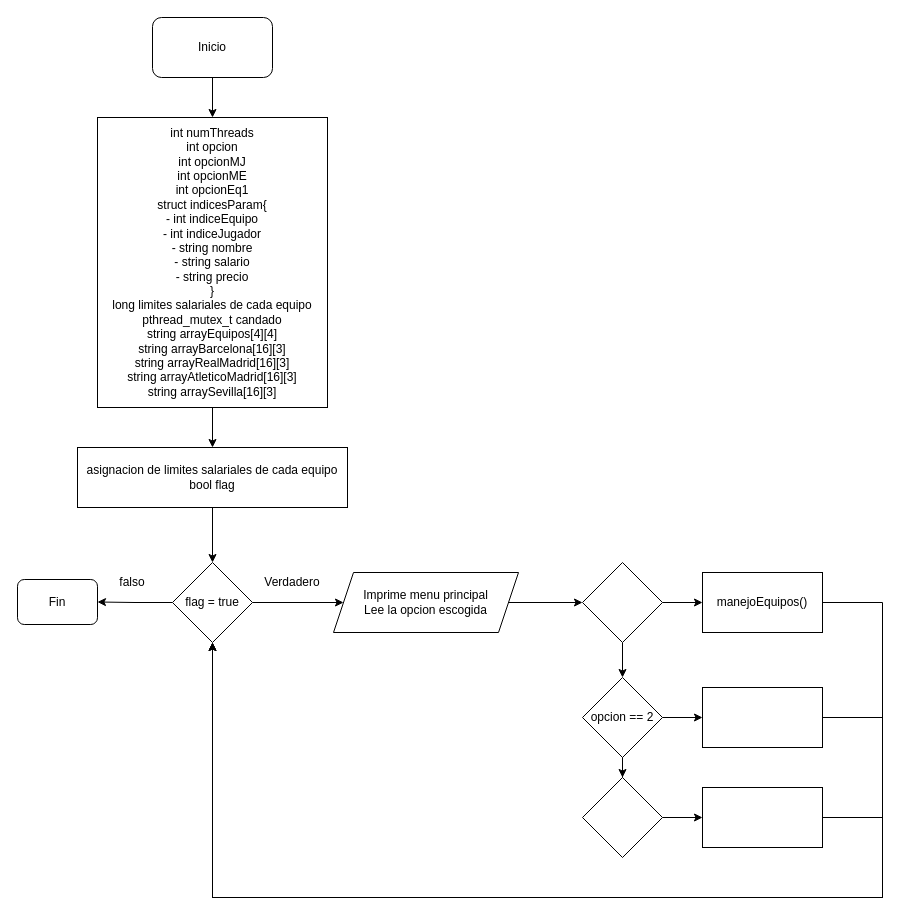
Some shapes in this 908 by 923 pixel diagram are drawn without their labels. Here are the shapes that lost their labels. From the top down, the centre of each, then its label:
the point at 622,602: opcion == 1
the point at 762,717: manejoJugadores()
the point at 622,817: opcion == 3
the point at 762,817: Flag = flase
